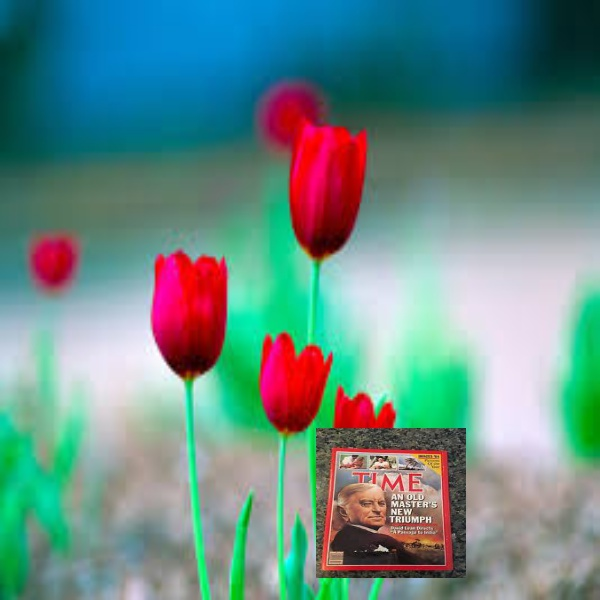time_cover: (315, 441, 453, 577)
